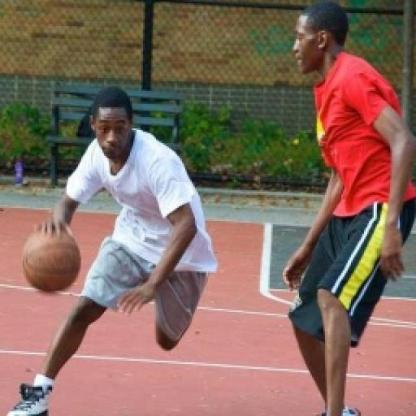basketball: (22, 227, 82, 294)
